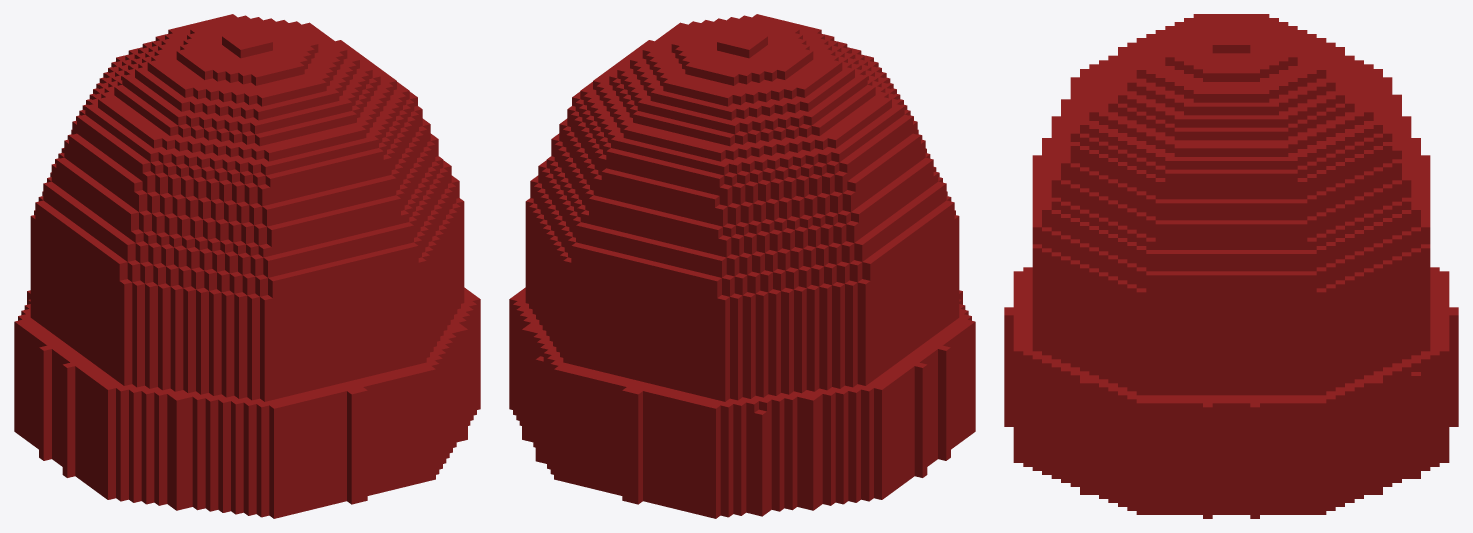
The model's file is hat_cotton.glb.
The picture shows the model from 3 angles, left to right: view 1: azimuth 30°, elevation 25°; view 2: azimuth 150°, elevation 25°; view 3: azimuth 270°, elevation 25°; orthographic projection.
Visible parts, largest first — view 1: hat_cotton:compound; view 2: hat_cotton:compound; view 3: hat_cotton:compound.
Boxes of the visible parts, x1,y1,x2,y2 form: hat_cotton:compound: [14, 14, 480, 518]; hat_cotton:compound: [509, 14, 975, 518]; hat_cotton:compound: [1004, 14, 1458, 518].
Bounding box in the file's own units: 0.192 × 0.18 × 0.192.
